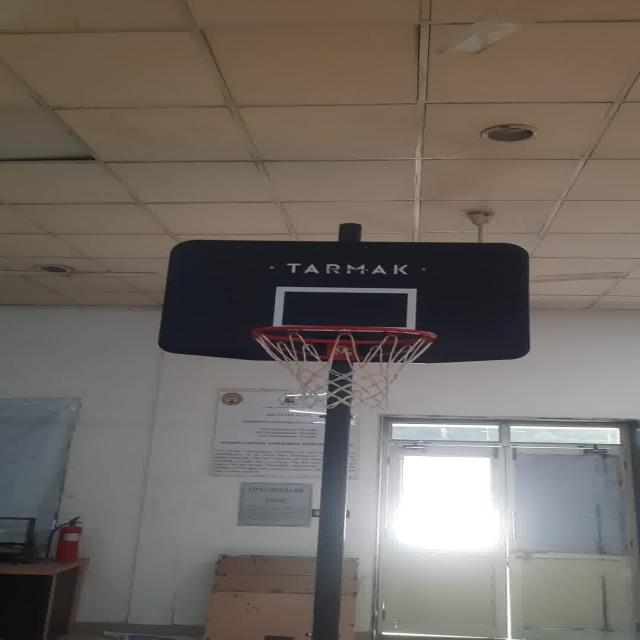objects: (242, 324, 444, 409), (269, 288, 425, 330)
